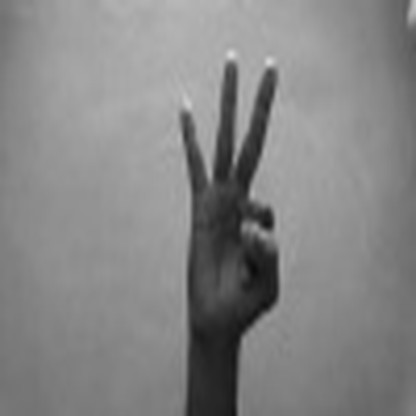f: (149, 44, 296, 349)
